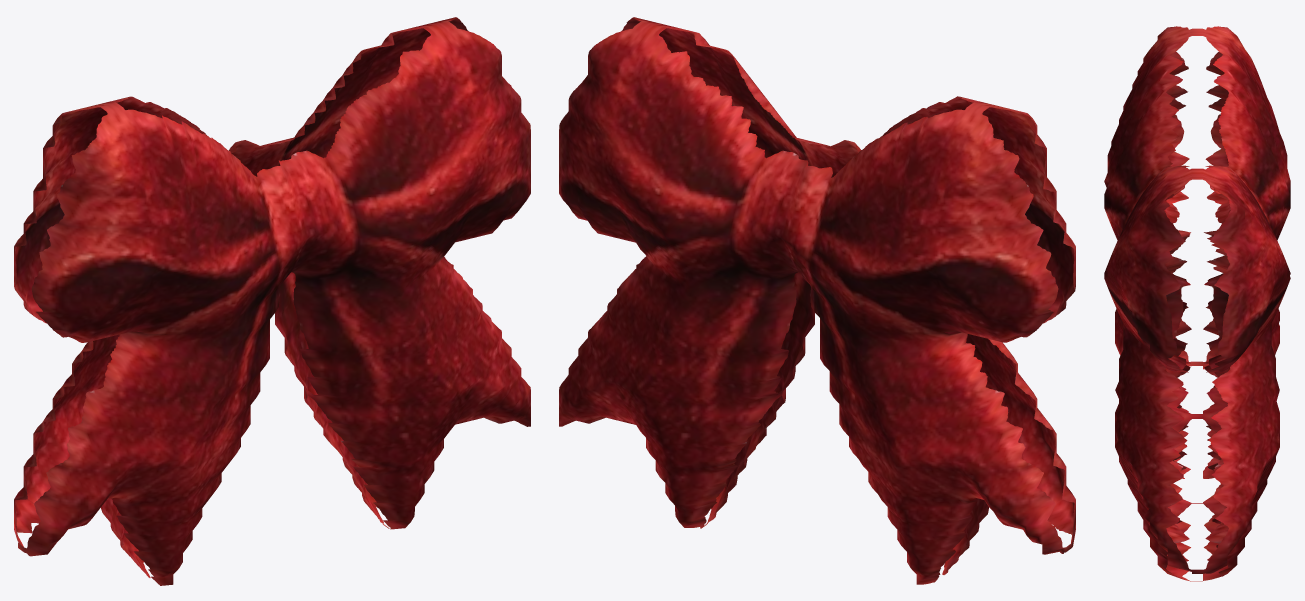
File: Item_bow.glb
The picture shows the model from 3 angles, left to right: view 1: azimuth 30°, elevation 25°; view 2: azimuth 150°, elevation 25°; view 3: azimuth 270°, elevation 25°; orthographic projection. The views are drawn at different scales.
Parts seen in each view (by area): view 1: Item_bow carving; view 2: Item_bow carving; view 3: Item_bow carving.
Part boxes in pixels (box(x1,y1,x2,y2)): Item_bow carving: box(14, 17, 530, 585); Item_bow carving: box(559, 17, 1075, 584); Item_bow carving: box(1104, 26, 1290, 581).
Bounding box in the file's own units: 0.2815 × 0.26 × 0.1021.
1 material, 1 textured.
